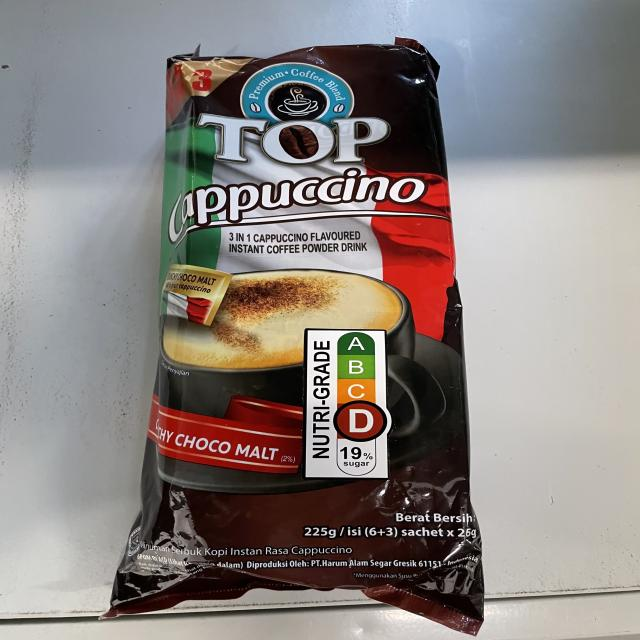object_name: (157, 58, 472, 611)
